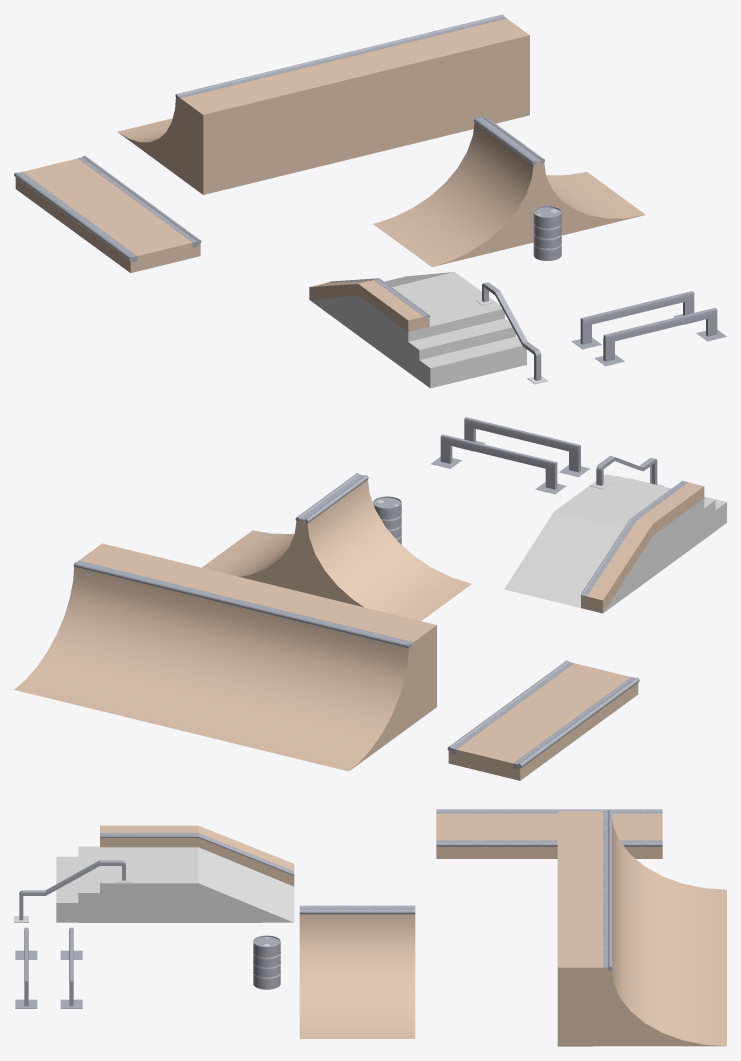
File: Skate.fbx
3 renders of one model, top to bottom at view 1: azimuth 30°, elevation 25°; view 2: azimuth 150°, elevation 25°; view 3: azimuth 270°, elevation 25°, orthographic. The views are drawn at different scales.
Parts seen in each view (by area): view 1: Skate; view 2: Skate; view 3: Skate.
Boxes of the visible parts, x1,y1,x2,y2 form: Skate: (14, 14, 726, 388); Skate: (14, 417, 726, 780); Skate: (14, 809, 726, 1046).
Size of the model in its own units: 309 by 52.2 by 420.
